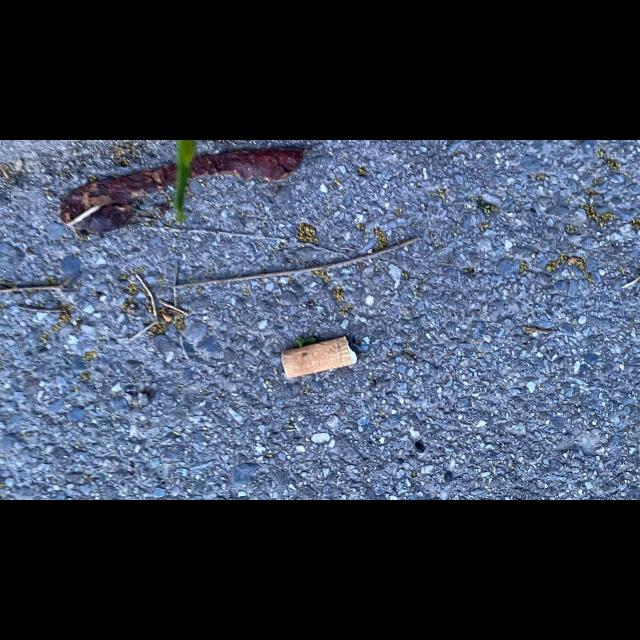cigarette: (281, 335, 358, 379)
